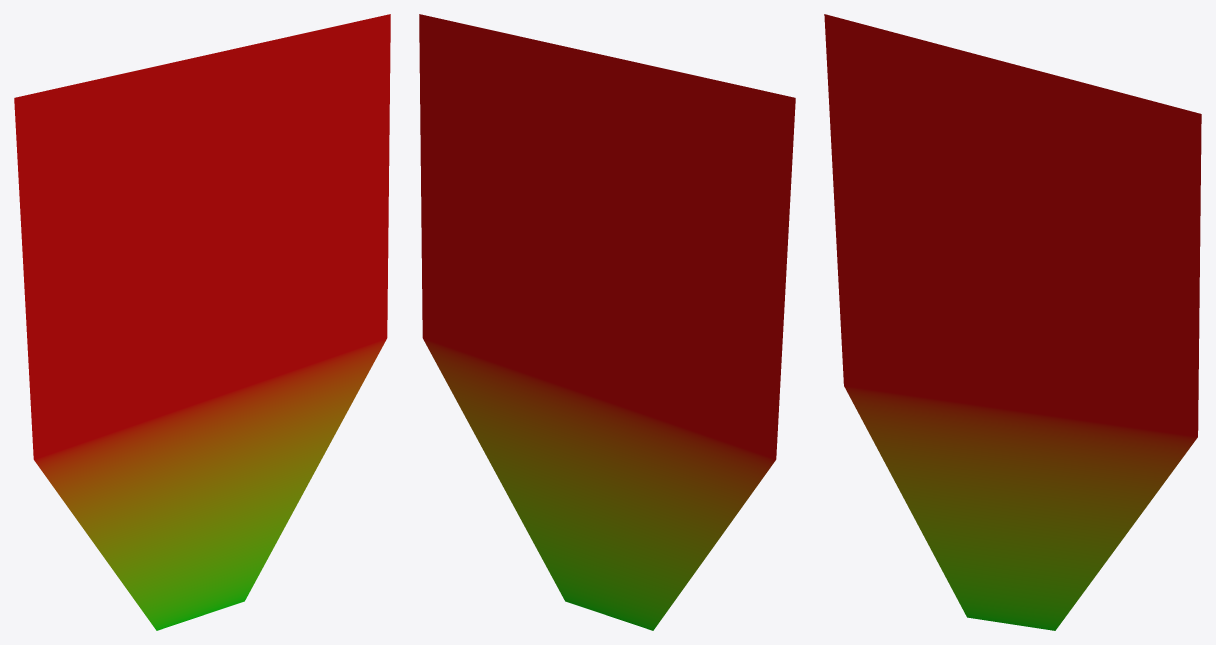
The model's file is Dead Broom Bush_LOD3_Var5_tlpjdhwia.fbx.
3 renders of one model, left to right at view 1: azimuth 30°, elevation 25°; view 2: azimuth 150°, elevation 25°; view 3: azimuth 330°, elevation 25°, orthographic.
Parts seen in each view (by area): view 1: _51a8_Var5_LOD3; view 2: _51a8_Var5_LOD3; view 3: _51a8_Var5_LOD3.
Boxes of the visible parts, x1,y1,x2,y2 form: _51a8_Var5_LOD3: [14, 14, 390, 630]; _51a8_Var5_LOD3: [419, 14, 795, 630]; _51a8_Var5_LOD3: [824, 14, 1201, 630].
Bounding box in the file's own units: 17.73 × 25.55 × 3.99e-06.
